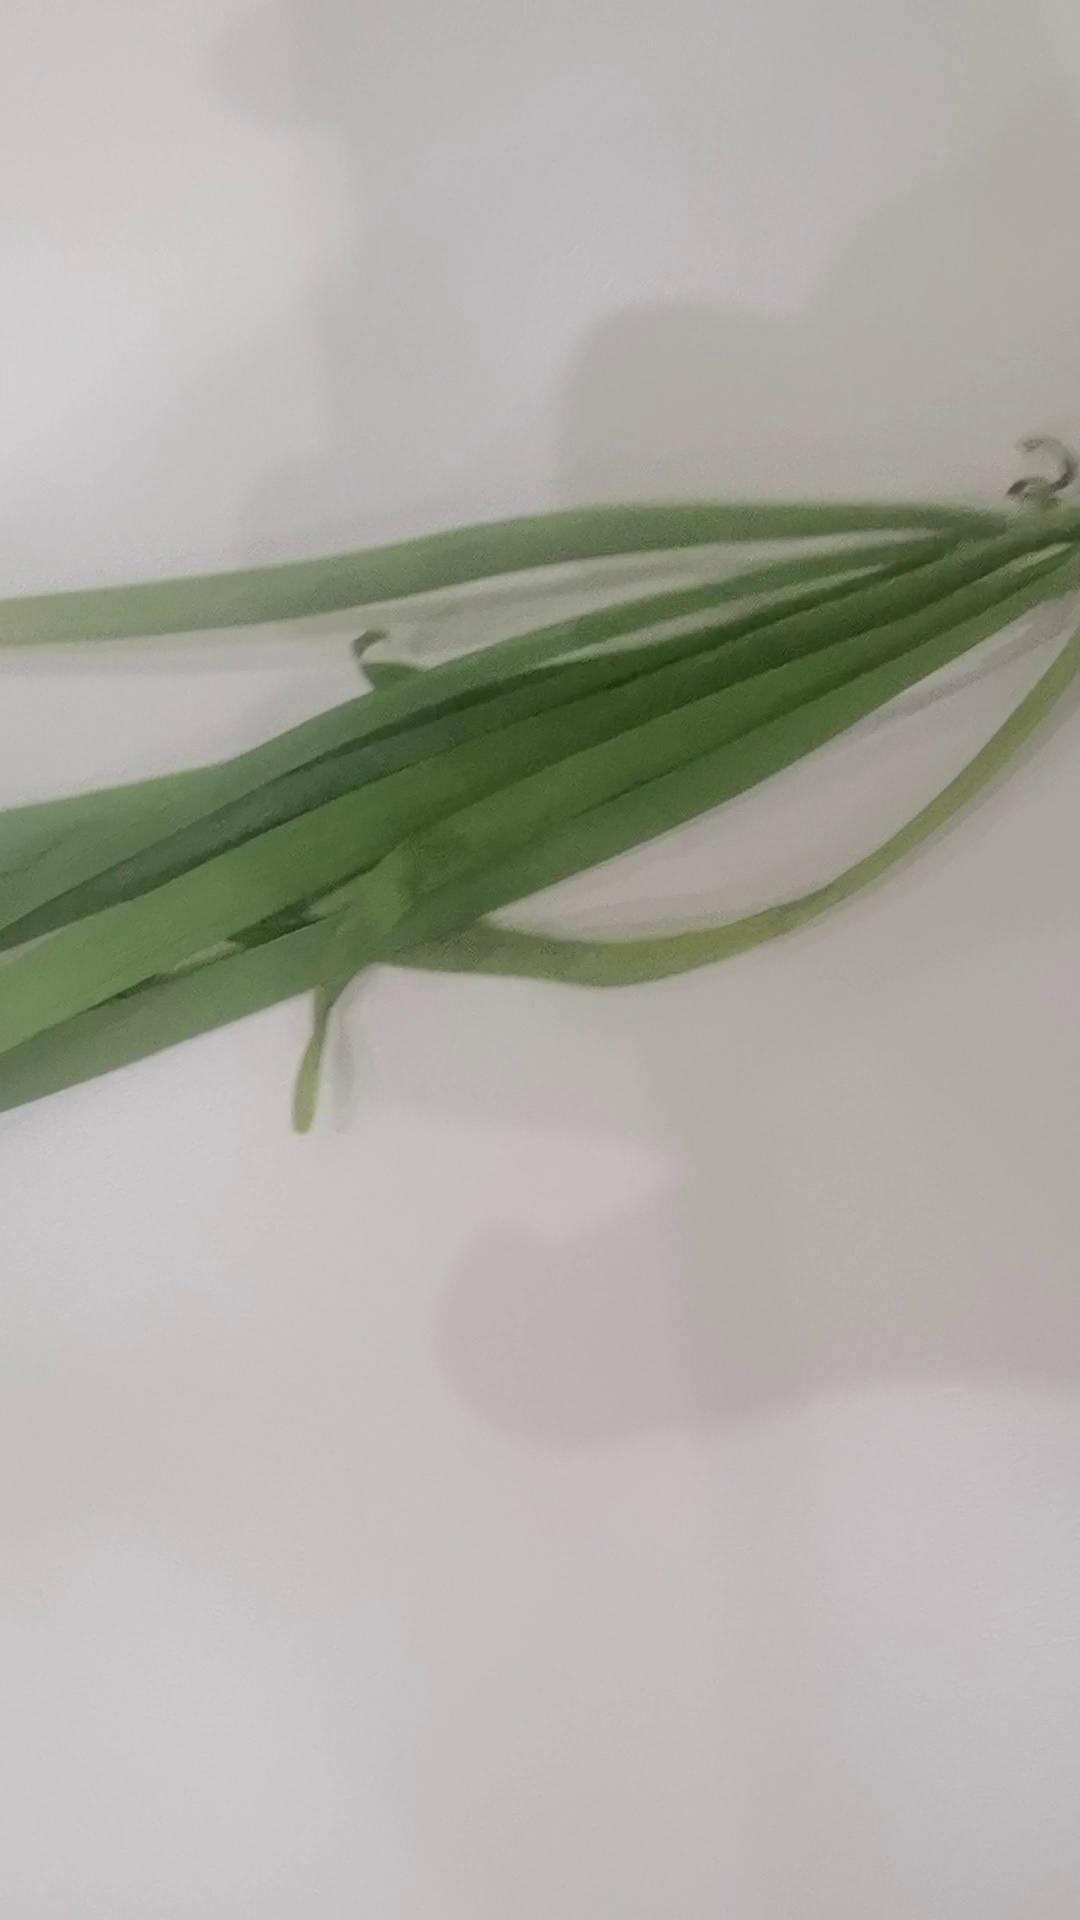chives: (1, 409, 1075, 1131)
